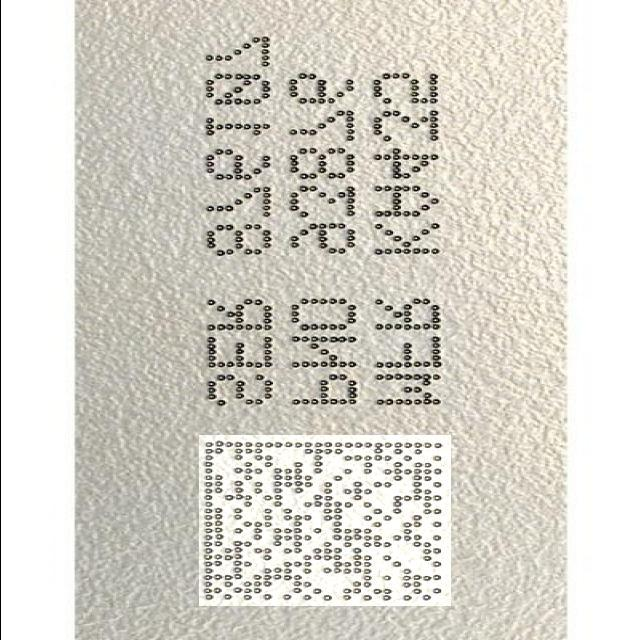Data-Matrix: (198, 435, 450, 606)
